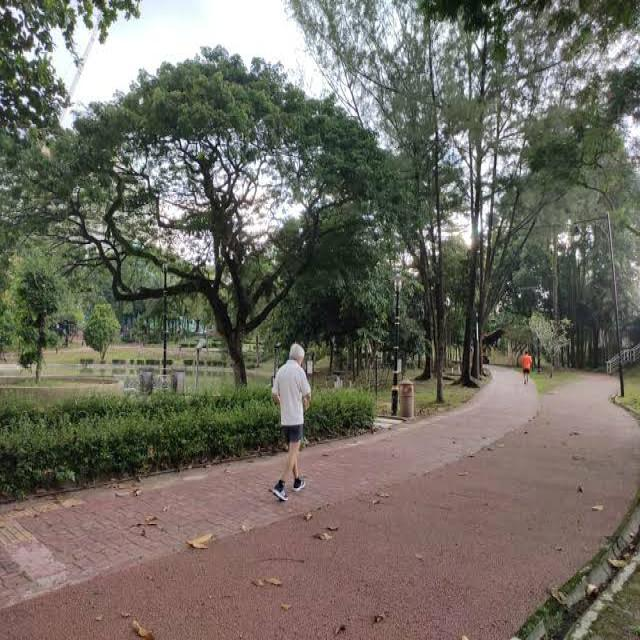Person: (268, 332, 330, 509)
